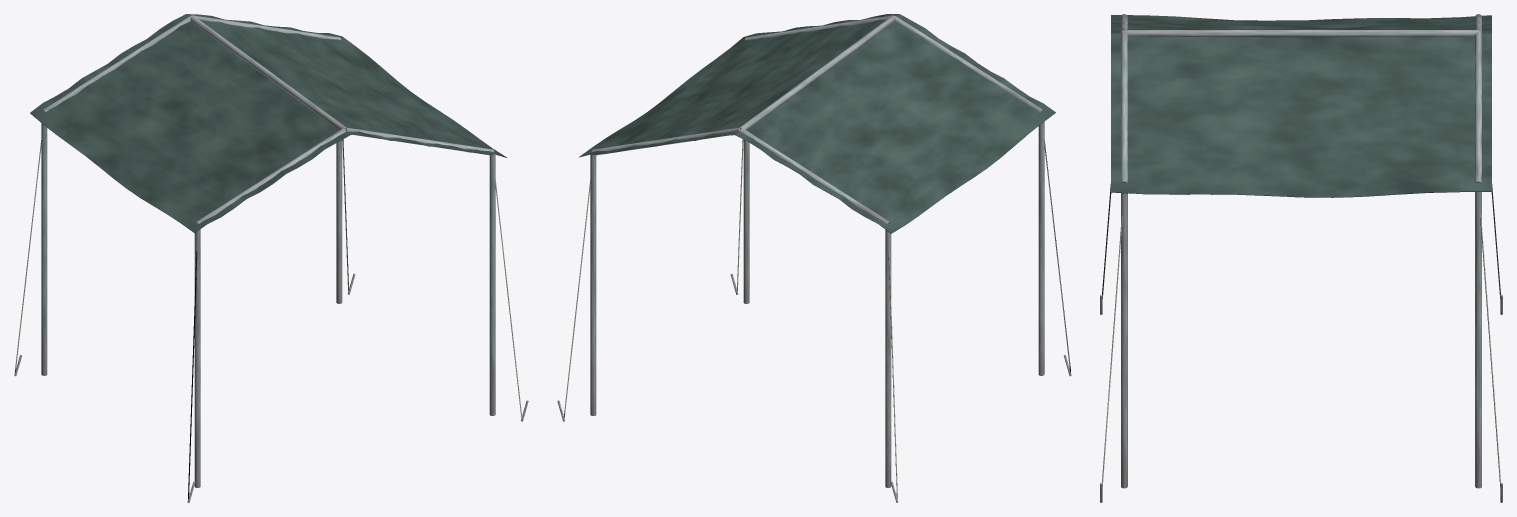
File: GR_TarpShelter_02.glb
3 renders of one model, left to right at view 1: azimuth 30°, elevation 25°; view 2: azimuth 150°, elevation 25°; view 3: azimuth 270°, elevation 25°, orthographic. The views are drawn at different scales.
Parts seen in each view (by area): view 1: Static; view 2: Static; view 3: Static.
Part boxes in pixels (box(x1,y1,x2,y2)): Static: box(14, 14, 528, 502); Static: box(557, 14, 1071, 502); Static: box(1100, 14, 1502, 502).
Size of the model in its own units: 2.89 by 2.65 by 2.56.
Materials: 1 (1 with a texture image).
